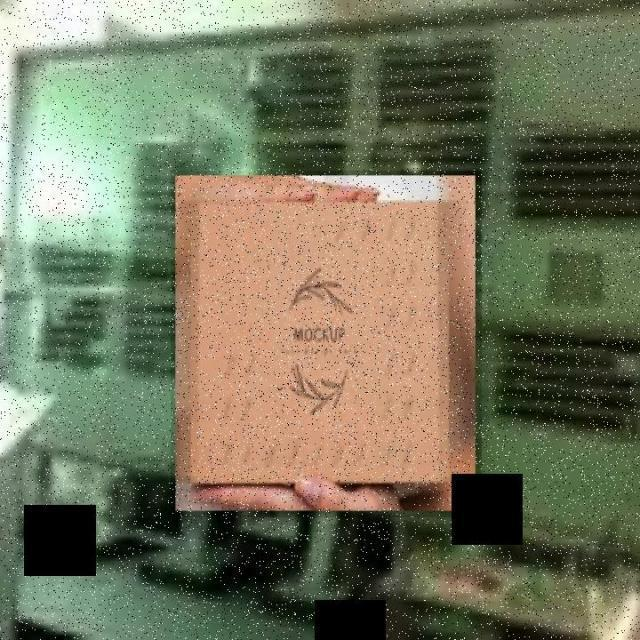box: (170, 170, 482, 518)
